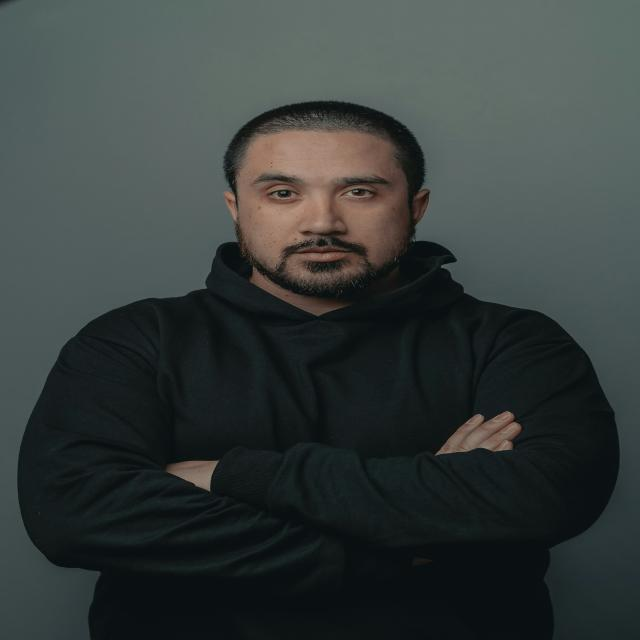mobile_phonerotation: (17, 98, 621, 637)
